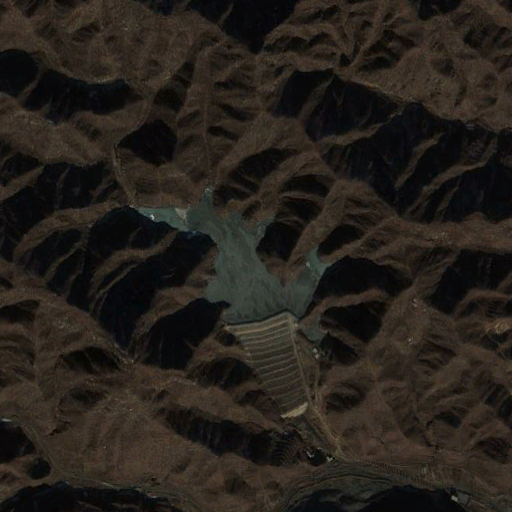tp: (132, 191, 330, 419)
